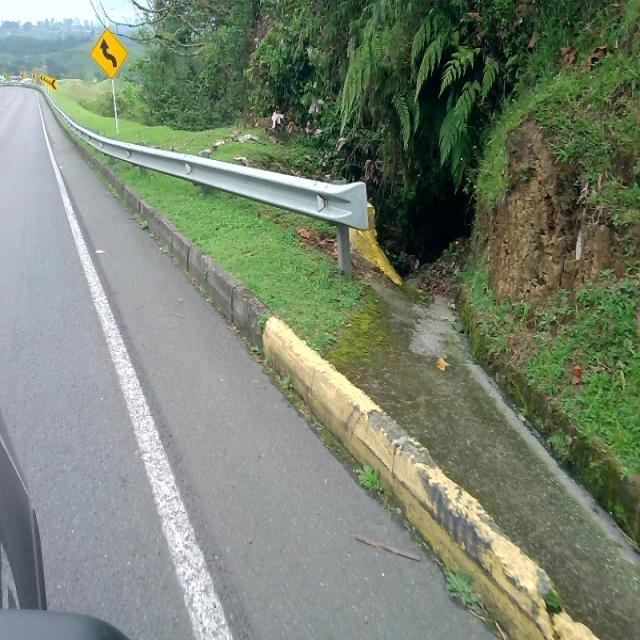DITCH: (2, 2, 638, 637), (28, 77, 638, 638)
